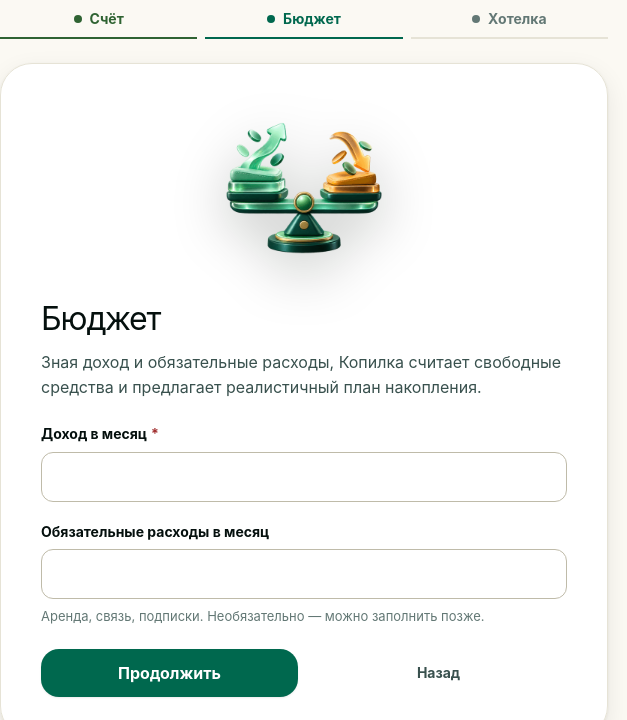
Test: OnboardingWizard › submits the budget step with parsed amounts
Type "150000" into the field labelled "Доход в месяц*".
click(304, 477); type("150000")  # box x1=41 y1=452 x2=567 y2=502
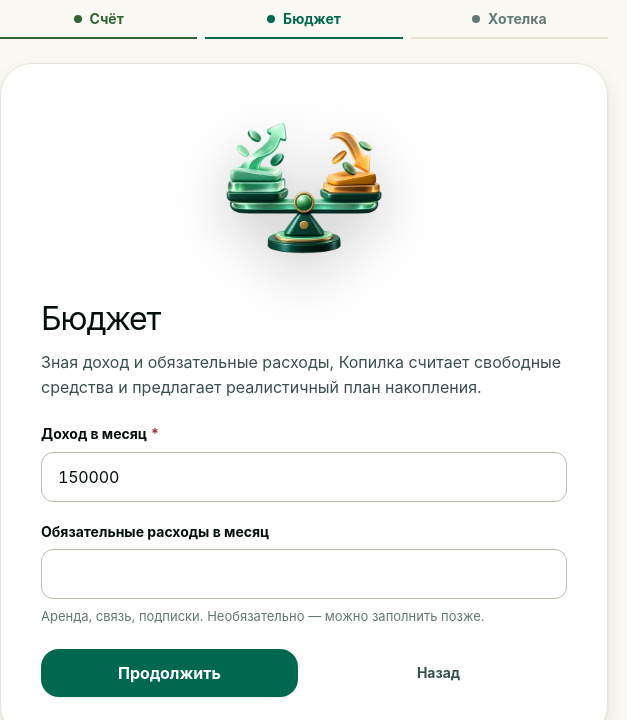
Type "60000" into the field labelled "Обязательные расходы в месяц".
click(304, 574); type("60000")  # box x1=41 y1=549 x2=567 y2=599
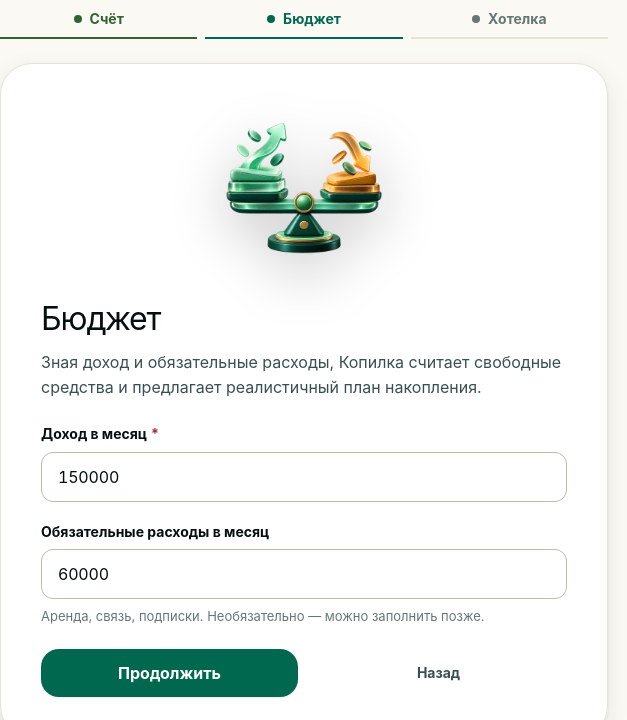
Click the button "Продолжить".
click(170, 673)  # box x1=41 y1=649 x2=298 y2=697
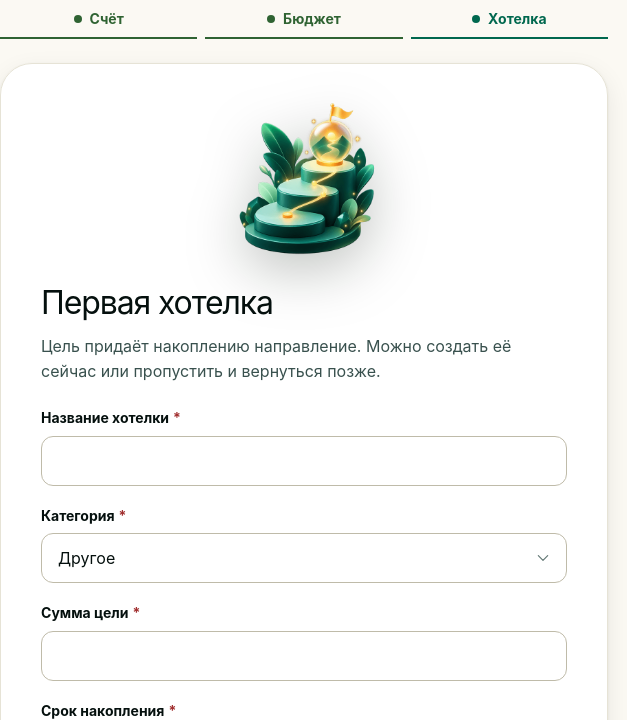
Check: the heading "Первая хотелка" is shown, box x1=41 y1=283 x2=273 y2=322
